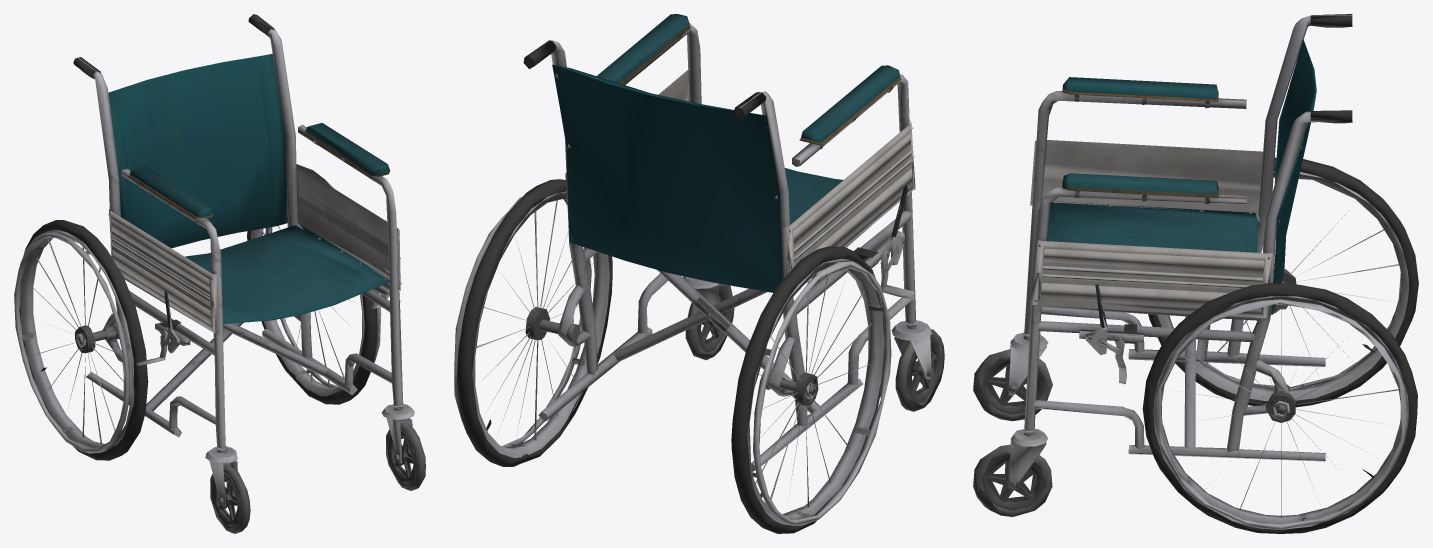
File: wheelchair_01.gltf
The picture shows the model from 3 angles, left to right: view 1: azimuth 30°, elevation 25°; view 2: azimuth 150°, elevation 25°; view 3: azimuth 270°, elevation 25°; orthographic projection. The views are drawn at different scales.
Parts seen in each view (by area): view 1: wheelchair_01; view 2: wheelchair_01; view 3: wheelchair_01.
Part boxes in pixels (left/top/right/bottom): wheelchair_01: left=14, top=14, right=425, bottom=533; wheelchair_01: left=454, top=14, right=944, bottom=533; wheelchair_01: left=973, top=14, right=1418, bottom=533.
Size of the model in its own units: 0.8241 by 1.1 by 1.09.
Materials: 1 (1 with a texture image).
